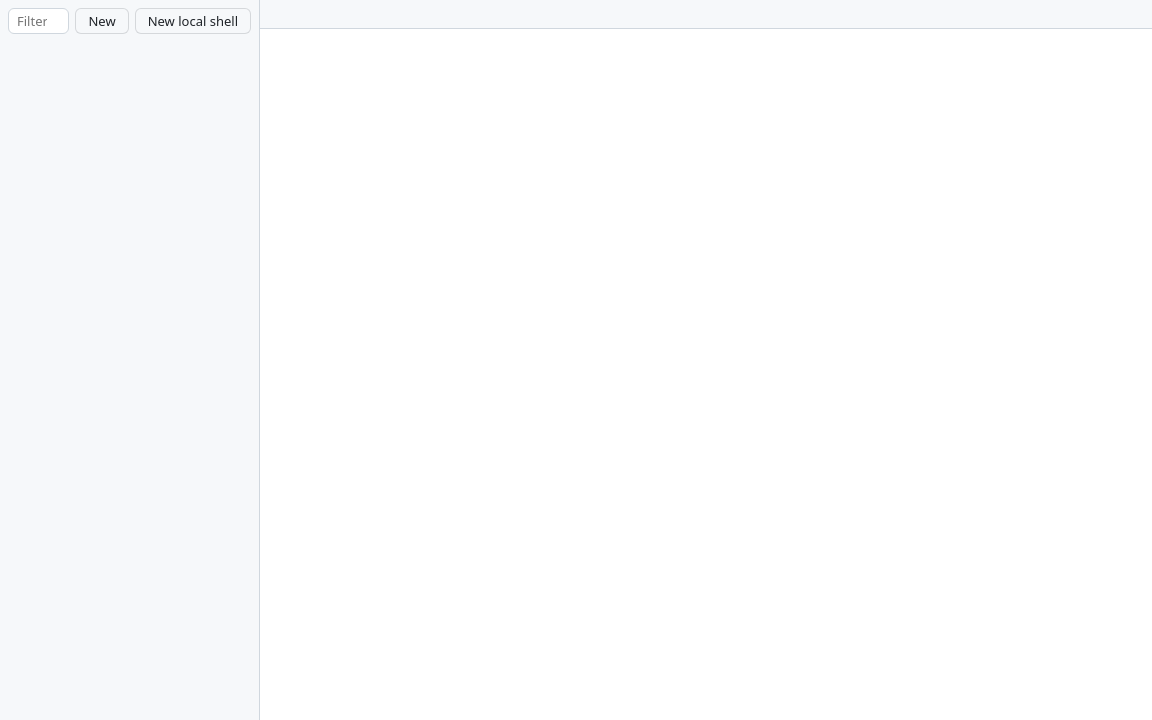
it: Profiling panel › records a Chrome trace and saves it to the file the user picks
The width and height of the screenshot is (1152, 720).
Type keys "{Control>}{Shift>}M{/Shift}{/Control}"
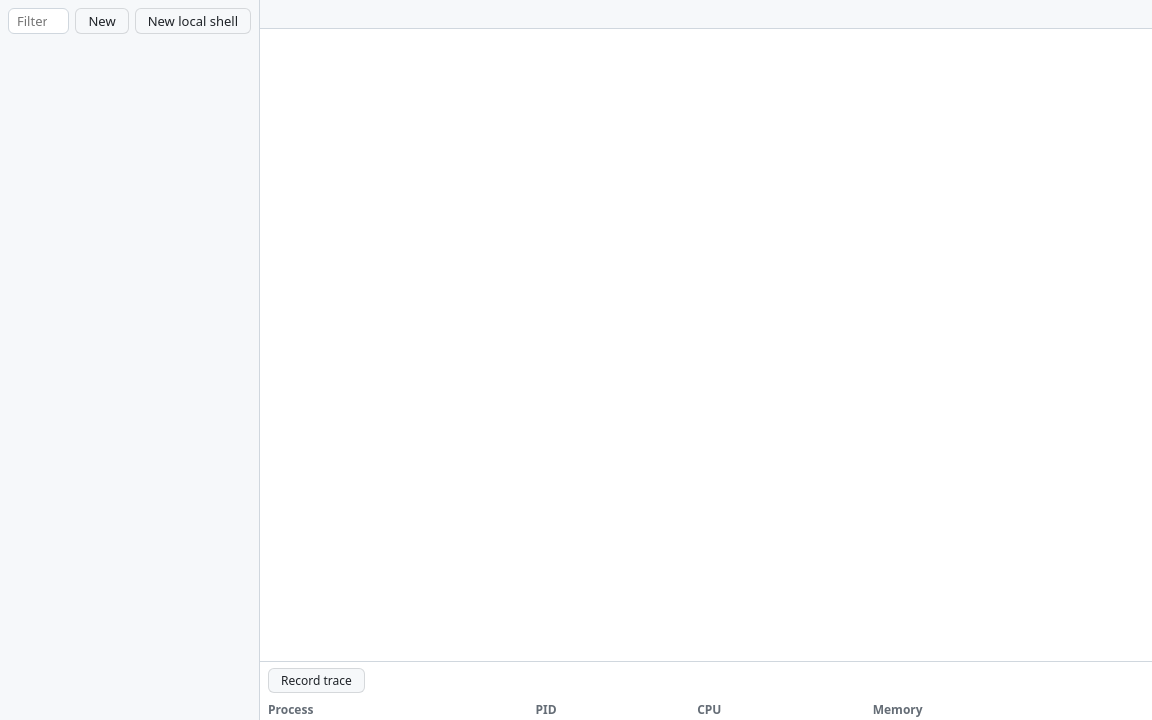
Click the button "Record trace" at {"x": 316, "y": 680}, box [268,668,365,693]
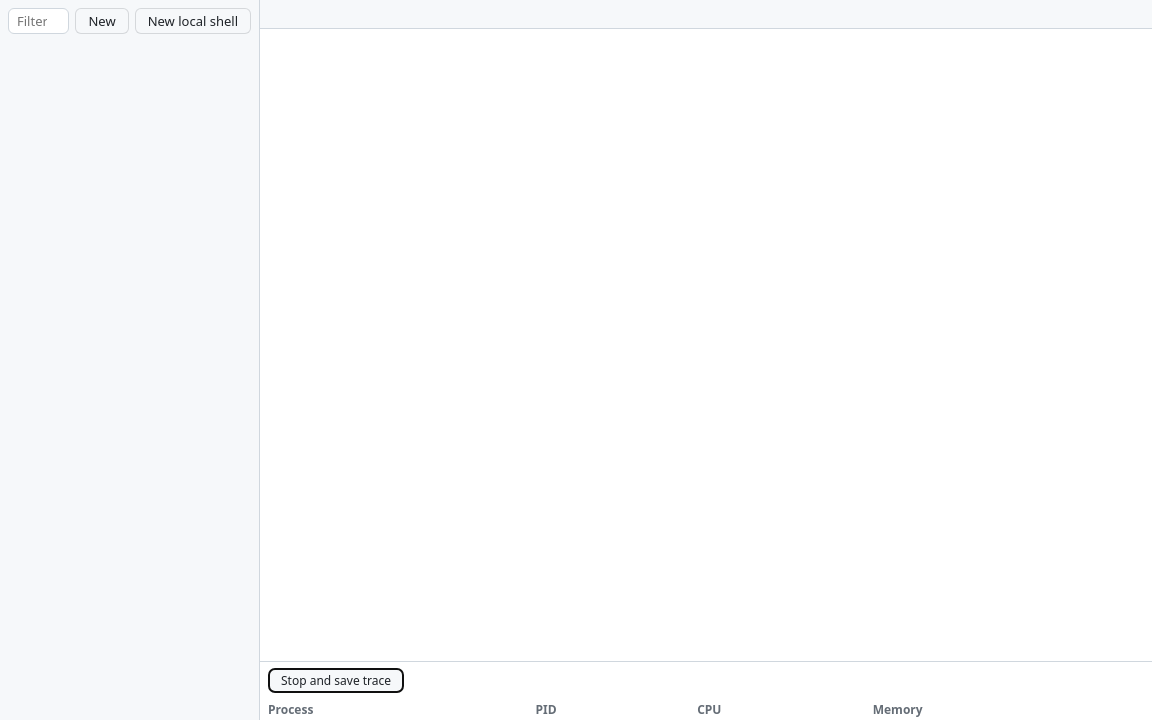
Click the button "Stop and save trace" at {"x": 336, "y": 680}, box [268,668,404,693]
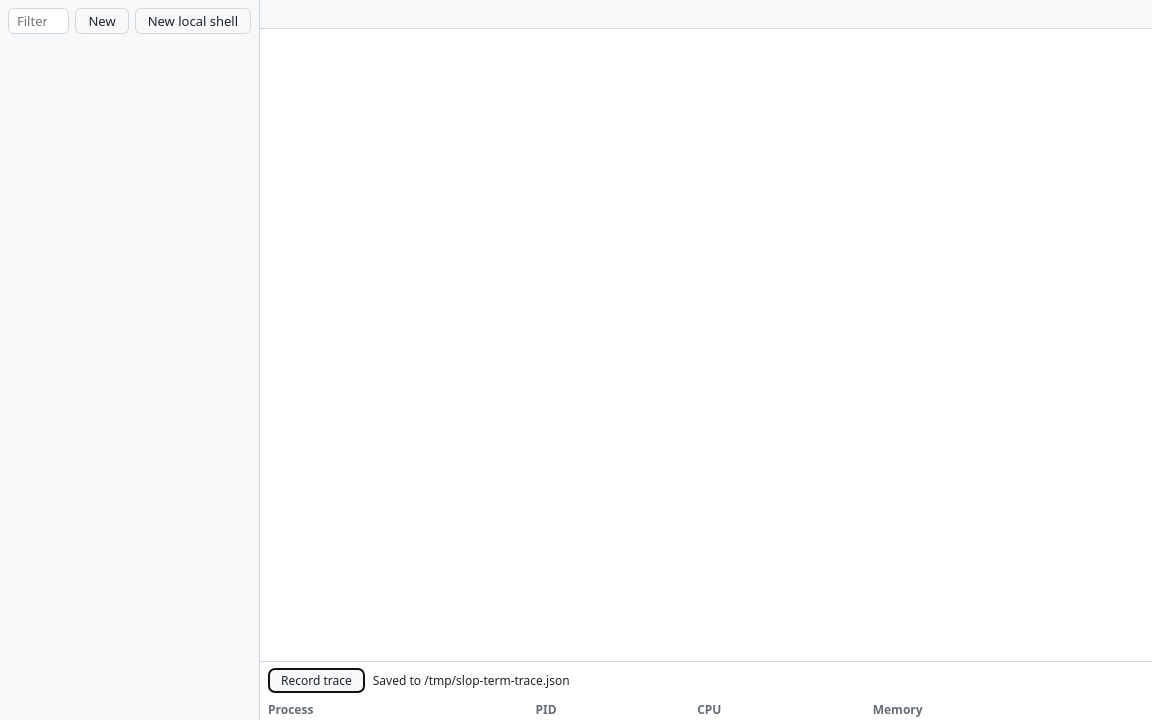
Now the element named "Profiling" shows "Saved to /tmp/slop-term-trace.json", box [260,661,1151,719]
